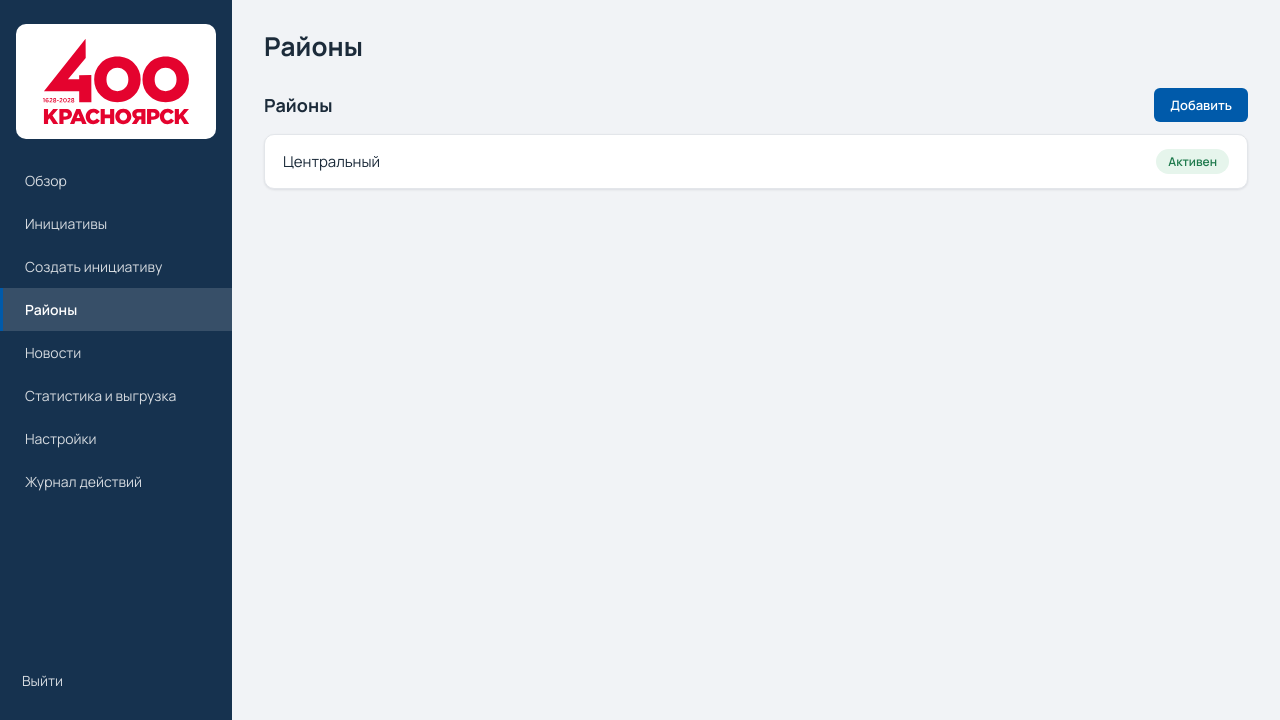
Test: admin taxonomy screen › opens the create dialog and adds a district via POST
Check: the text "Центральный" is shown, box left=283, top=151, right=380, bottom=172
Click the button "Добавить". click: [1201, 105]
box: left=1154, top=88, right=1248, bottom=122
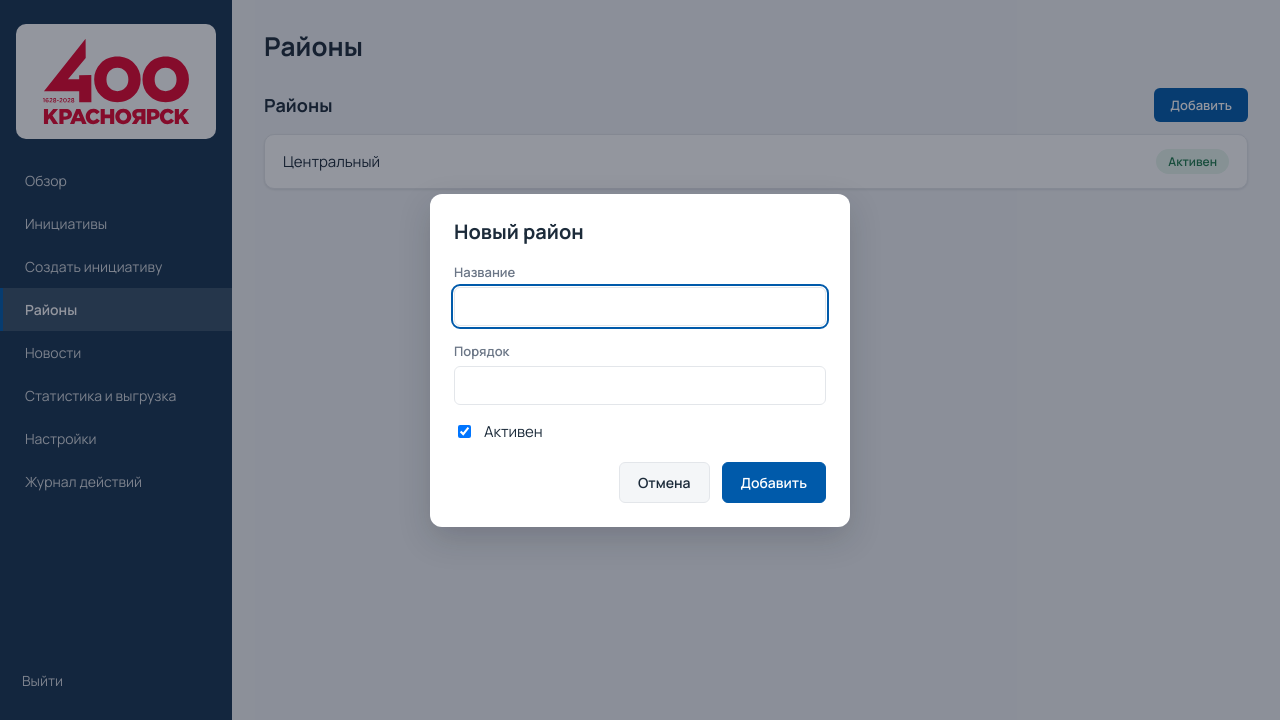
Check: the heading "Новый район" is shown, box left=454, top=218, right=584, bottom=244
Type "Тестовый район" into the field labelled "Название". click: [640, 306]
box: left=454, top=286, right=826, bottom=326
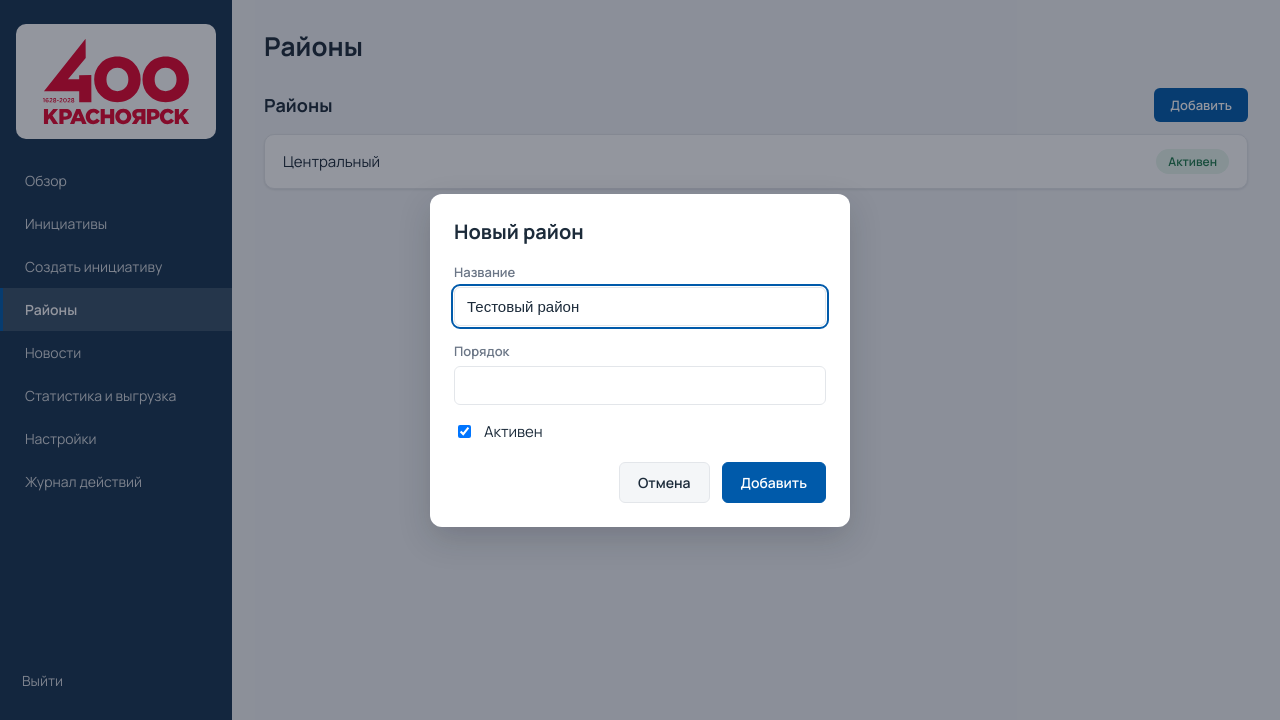
Click the button "Добавить". click: [774, 482]
box: left=722, top=462, right=826, bottom=502
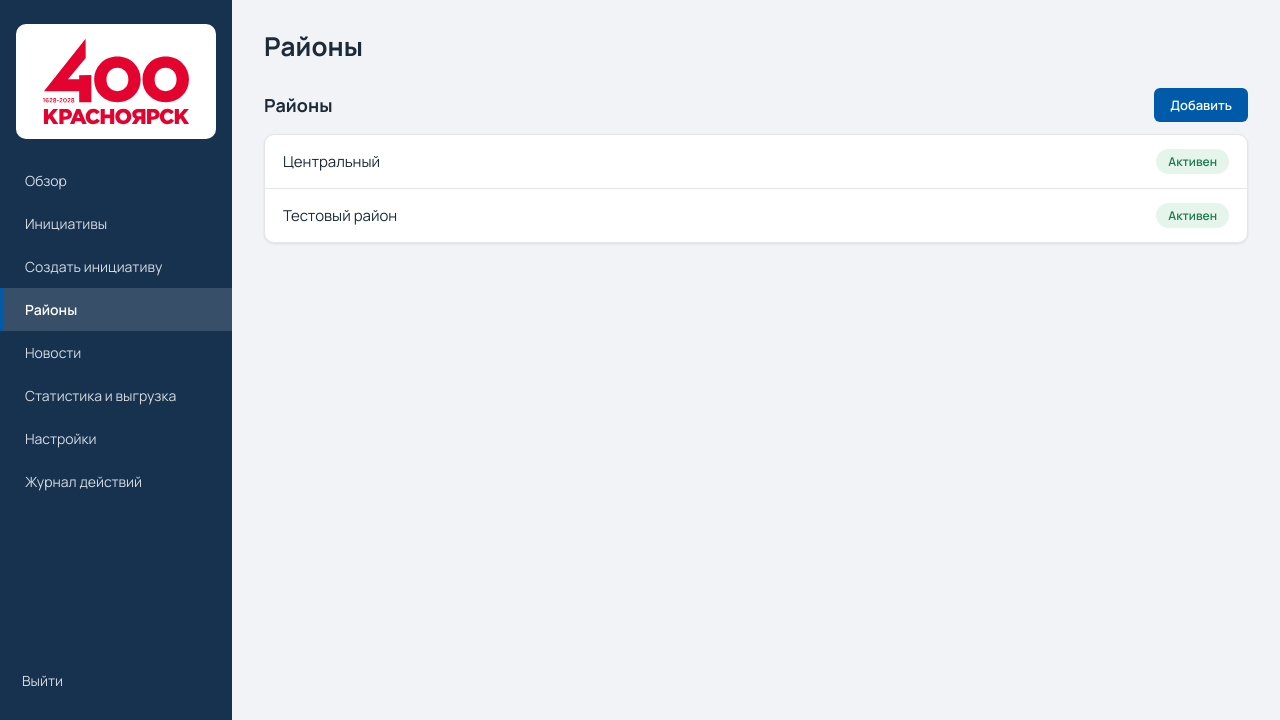
Check: the text "Тестовый район" is shown, box left=283, top=205, right=397, bottom=226
